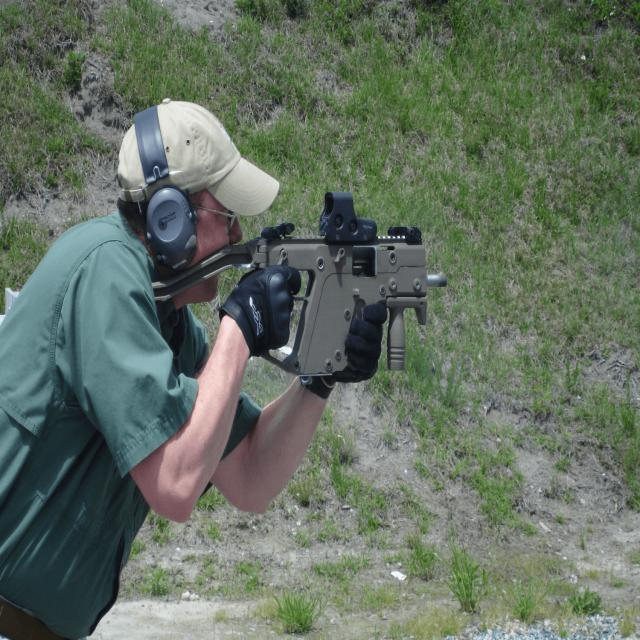SMG: (152, 192, 446, 396)
